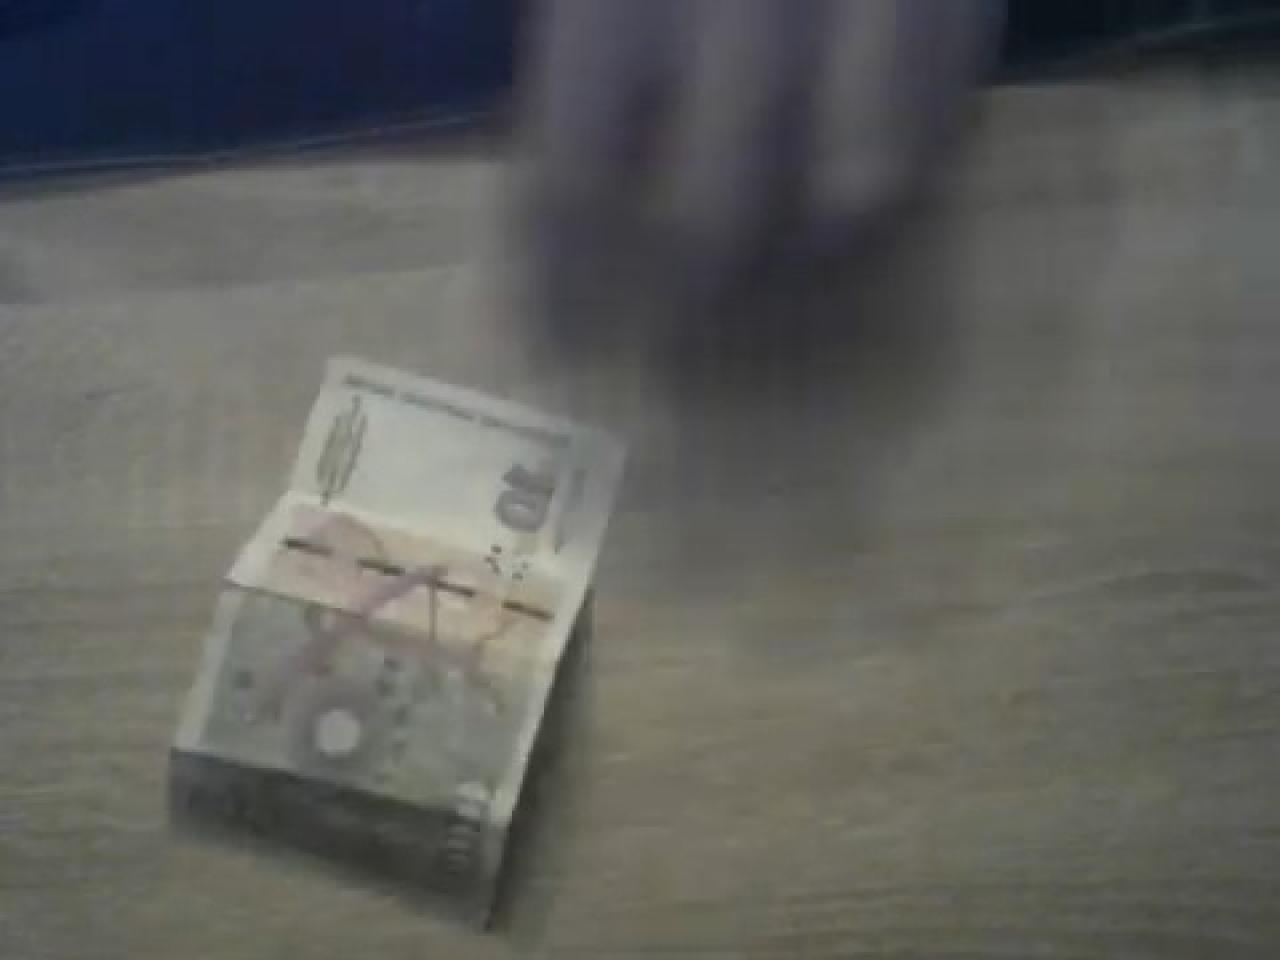10leva: (165, 357, 627, 936)
